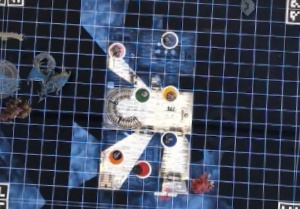blue: (160, 128, 181, 148)
green: (129, 85, 153, 107)
orange: (106, 148, 126, 165)
pink: (106, 38, 127, 61)
red: (132, 158, 152, 181)
violet: (159, 29, 182, 49)
yellow: (163, 83, 181, 102)
